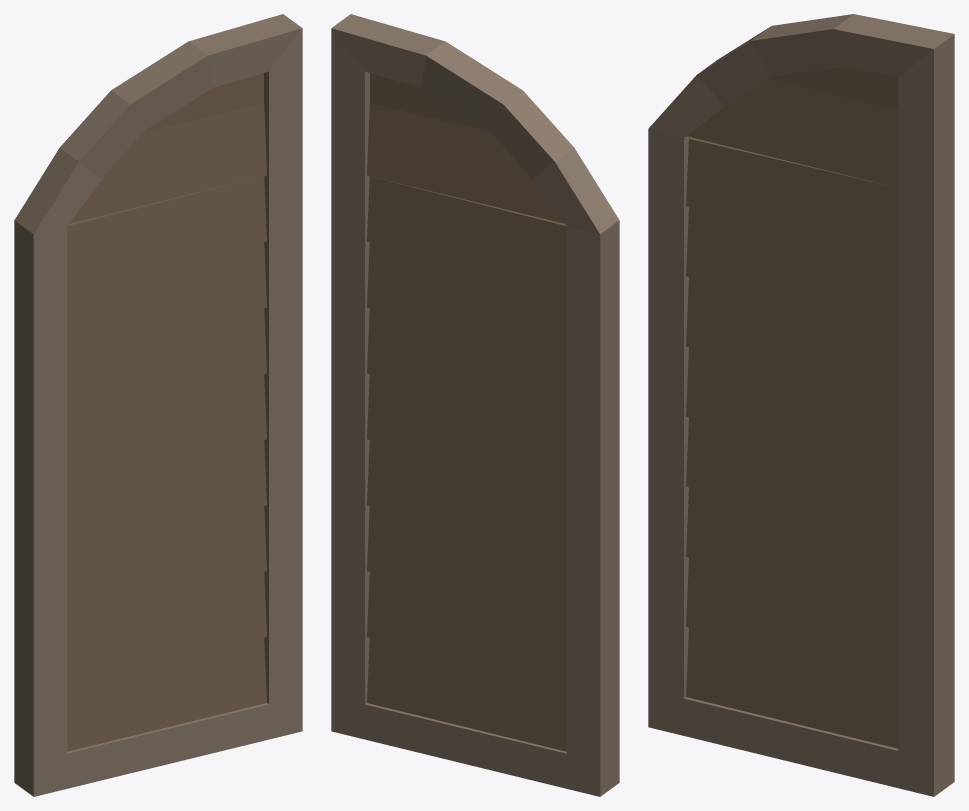
The model's file is victorian_window_1_shutter_l.fbx.
3 renders of one model, left to right at view 1: azimuth 30°, elevation 25°; view 2: azimuth 150°, elevation 25°; view 3: azimuth 330°, elevation 25°, orthographic. The views are drawn at different scales.
Visible parts, largest first — view 1: shutter_l; view 2: shutter_l; view 3: shutter_l.
Part boxes in pixels (x1,y1,x2,y2): shutter_l: (14, 14, 302, 796); shutter_l: (331, 14, 619, 796); shutter_l: (648, 14, 954, 796).
Size of the model in its own units: 80 by 200 by 10.
